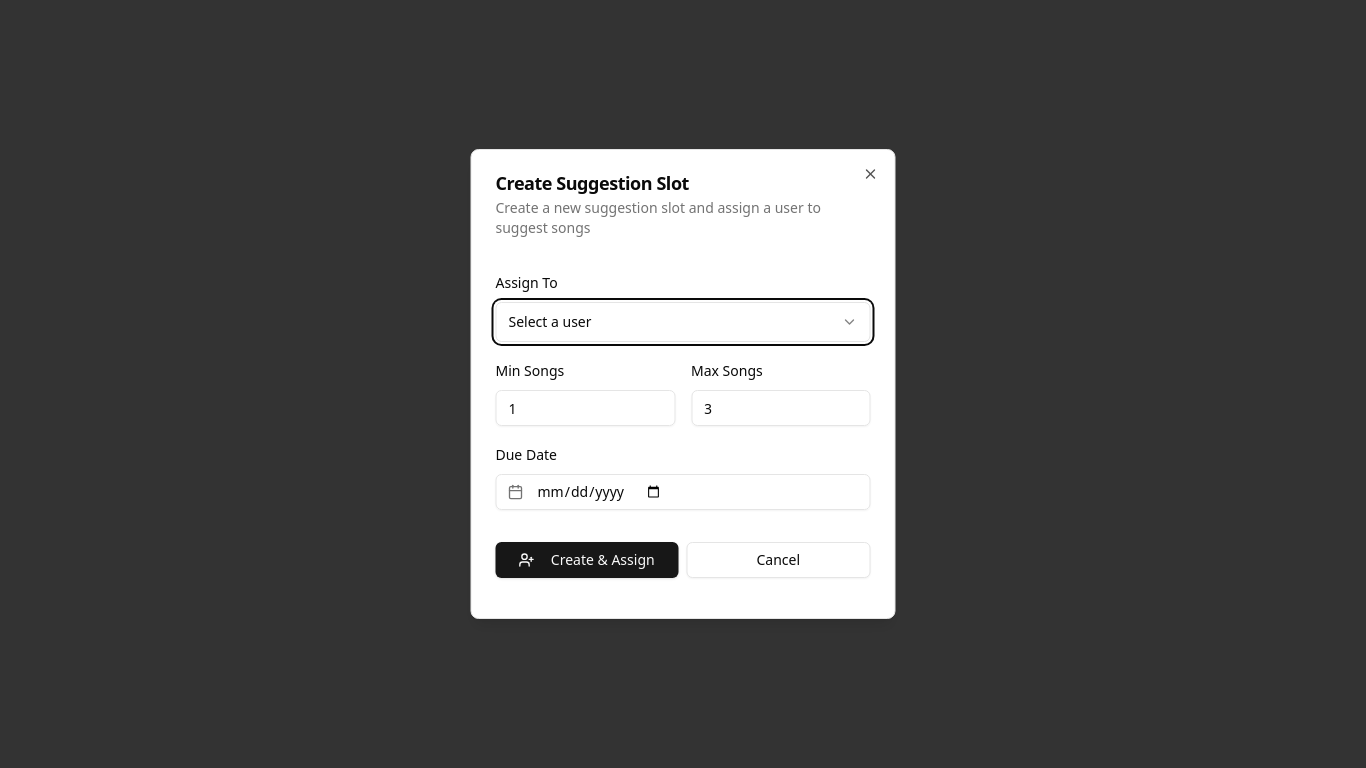
AssignSuggesterModal Component › Create Mode (No Existing Slot) › should display user select dropdown with all users
The image size is (1366, 768).
Click the dropdown.
click(550, 322)  # box [496, 302, 870, 342]
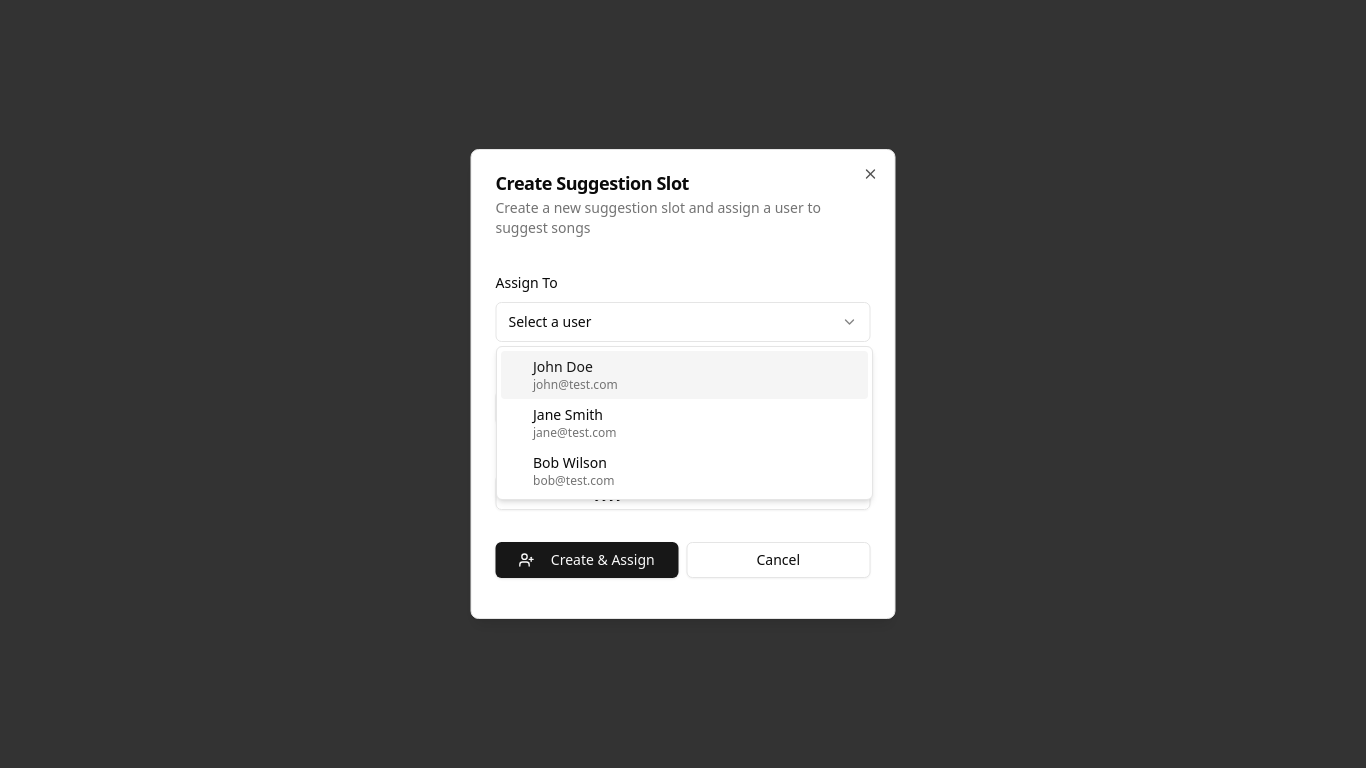
Check: the text "John Doe" is shown, box [533, 357, 593, 377]
Check: the text "Jane Smith" is shown, box [533, 405, 603, 425]
Check: the text "Bob Wilson" is shown, box [533, 453, 607, 473]
